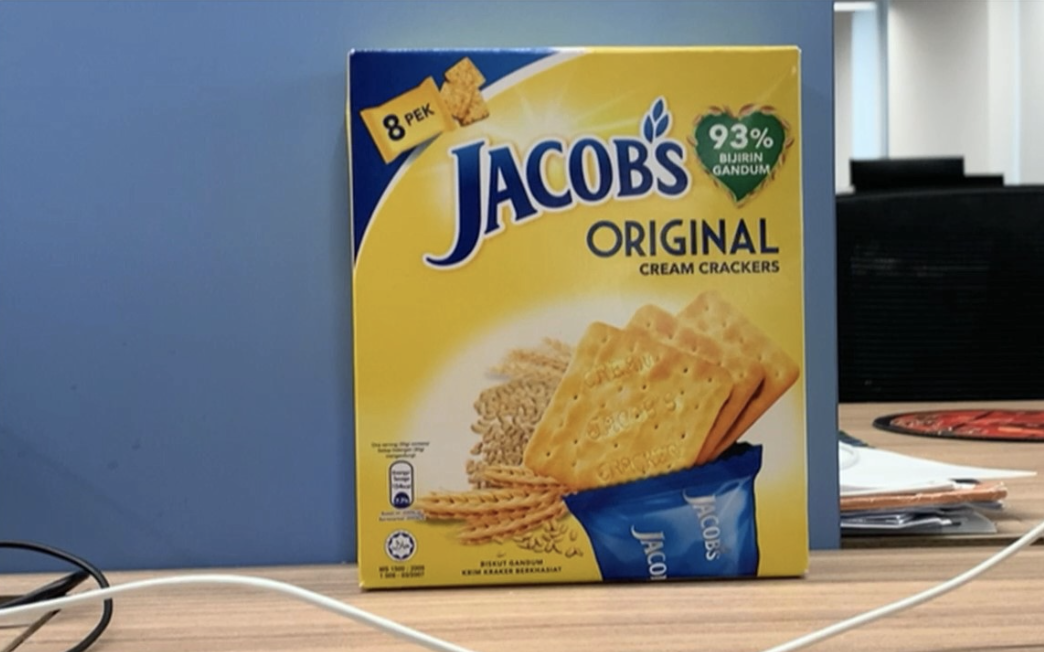crackers_200g-299g: (372, 67, 795, 575)
